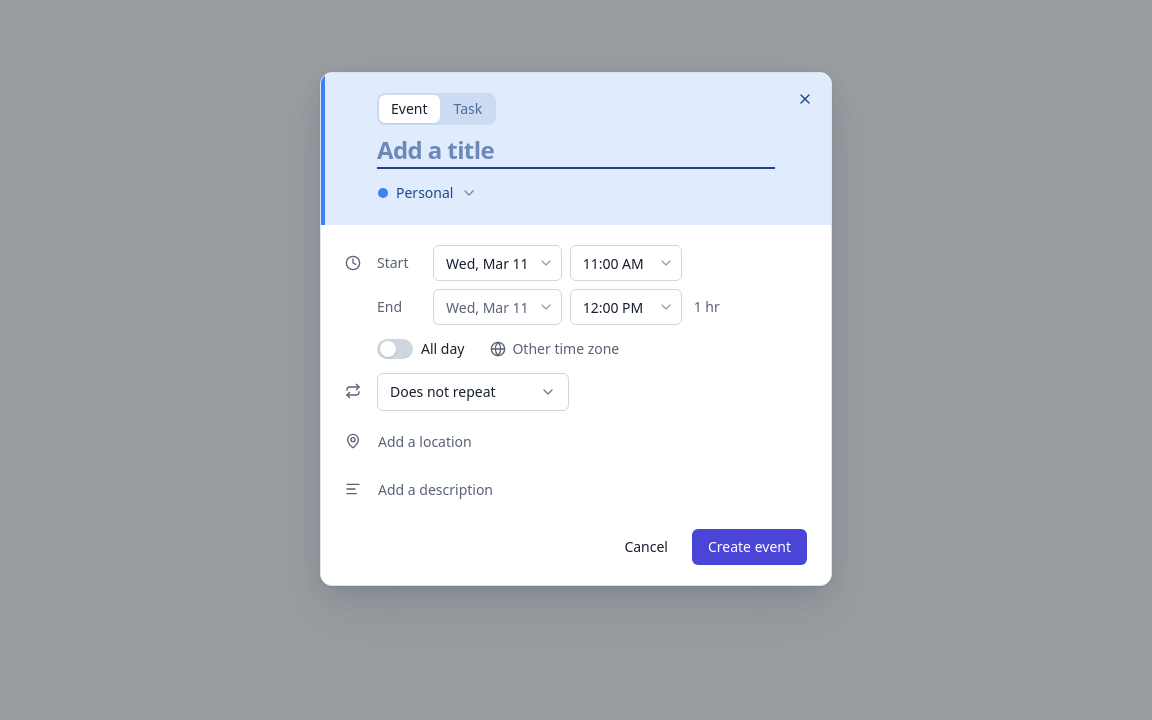
Test case: typed times (FR-09) › Enter in a time field commits without saving
Click the dropdown named "Start time".
click(626, 263)  # box x1=570 y1=245 x2=682 y2=281
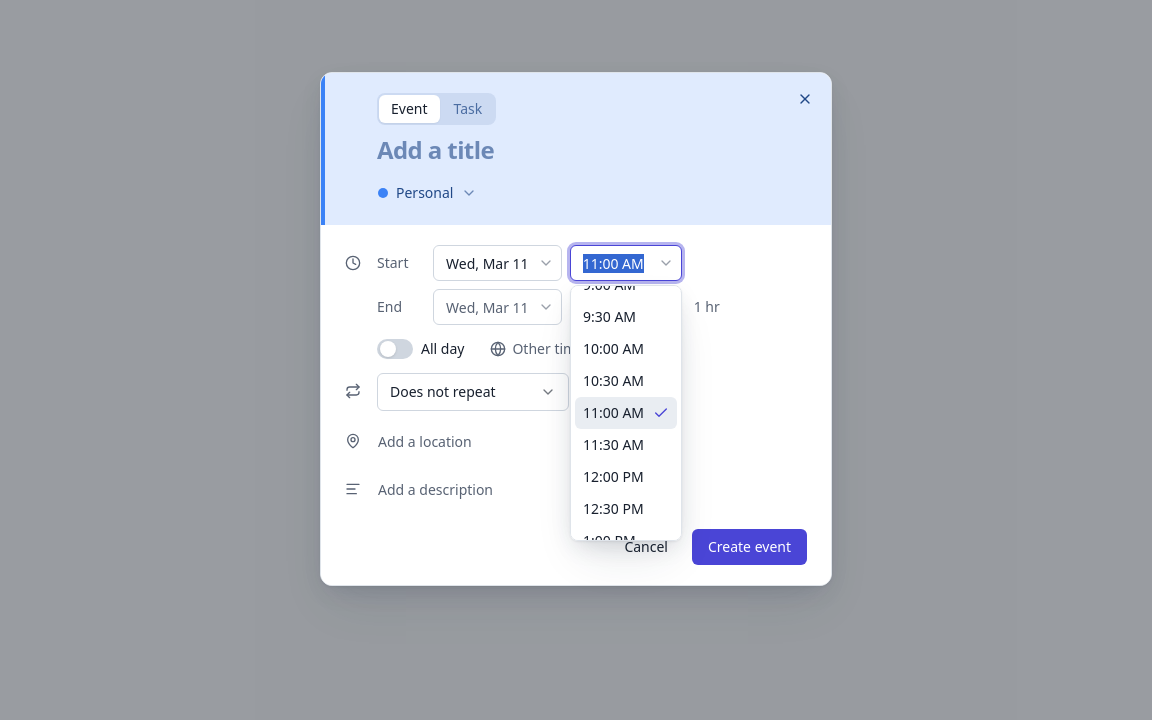
Type keys "940{Enter}"
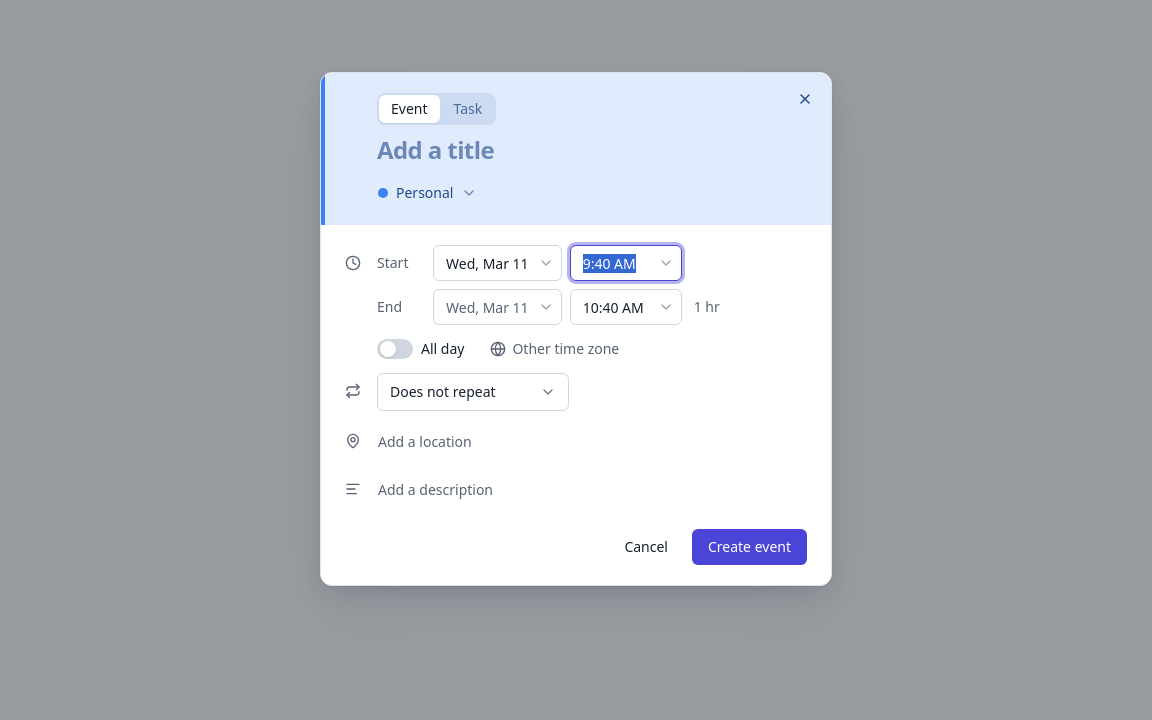
Now the dropdown named "Start time" holds "9:40 AM", box x1=570 y1=245 x2=682 y2=281
Now the dropdown named "End time" holds "10:40 AM", box x1=570 y1=289 x2=682 y2=325
